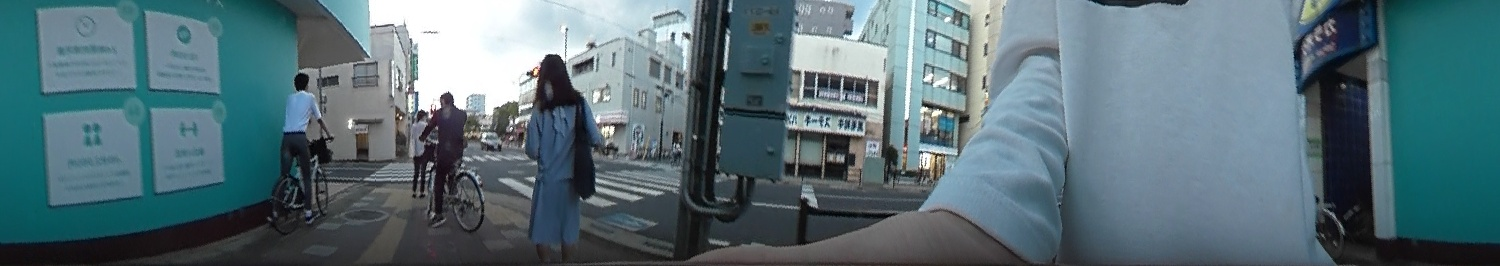difficult_person: (670, 134, 684, 163)
person: (515, 46, 608, 266), (268, 65, 332, 227), (416, 87, 469, 224), (402, 106, 433, 198)
